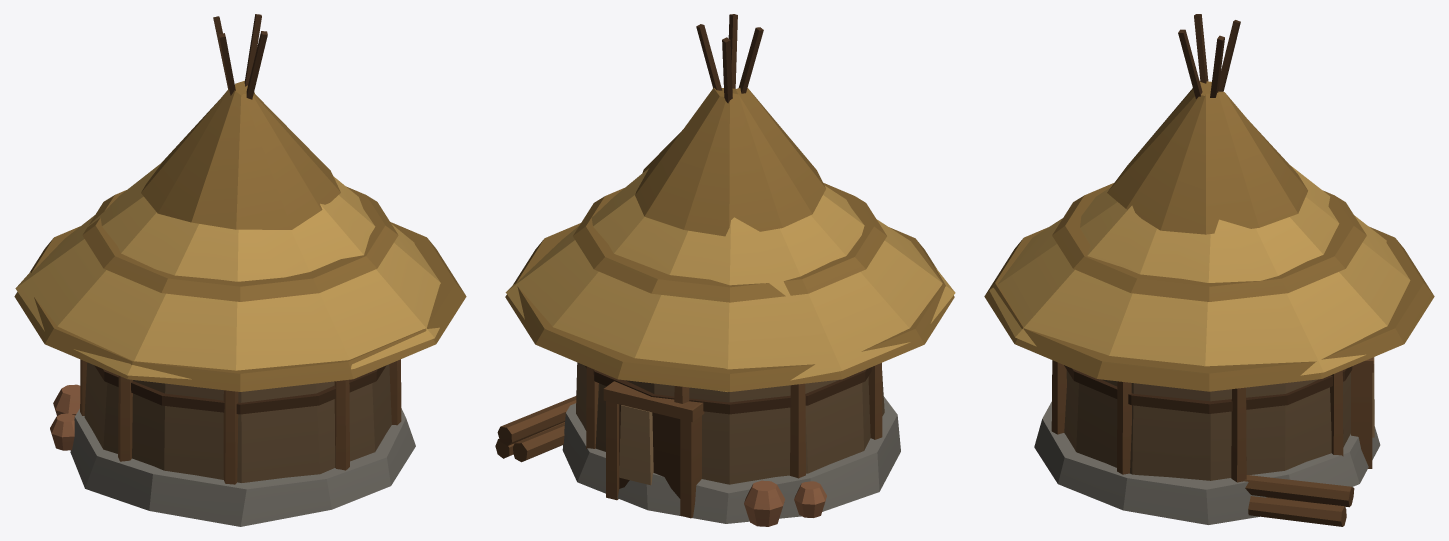
Rendered from house_0_s2.glb.
The picture shows the model from 3 angles, left to right: view 1: azimuth 30°, elevation 25°; view 2: azimuth 150°, elevation 25°; view 3: azimuth 270°, elevation 25°; orthographic projection.
Parts seen in each view (by area): view 1: house_0_s2; view 2: house_0_s2; view 3: house_0_s2.
Part boxes in pixels (x1,y1,x2,y2): house_0_s2: (14, 14, 466, 526); house_0_s2: (495, 14, 955, 526); house_0_s2: (984, 14, 1434, 526).
Size of the model in its own units: 2.1 by 2.2 by 2.1.
